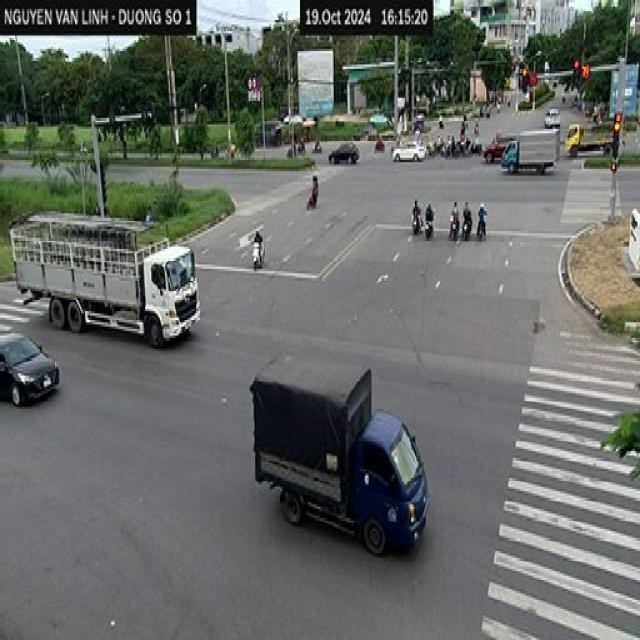car: (0, 326, 62, 424), (329, 135, 362, 169)
motorcycle: (251, 243, 265, 270), (306, 189, 314, 213)
truck: (253, 334, 439, 567), (1, 202, 207, 356), (500, 128, 562, 184), (566, 113, 617, 162)
